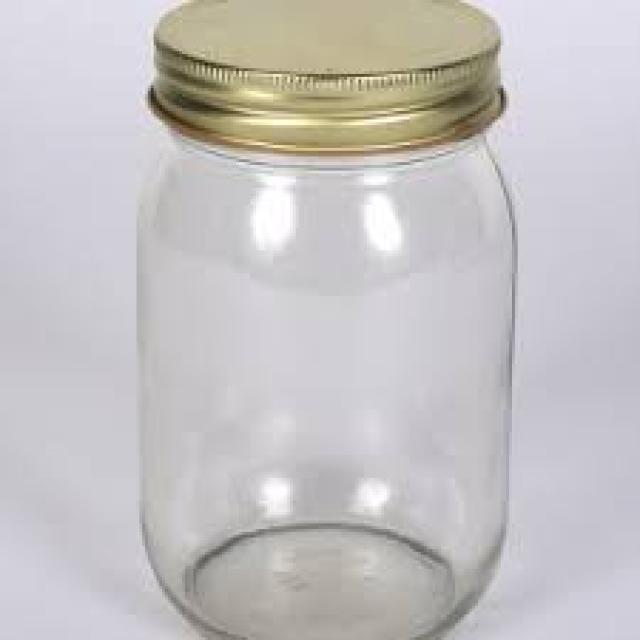glass: (136, 114, 515, 637)
metal: (145, 0, 504, 151)
